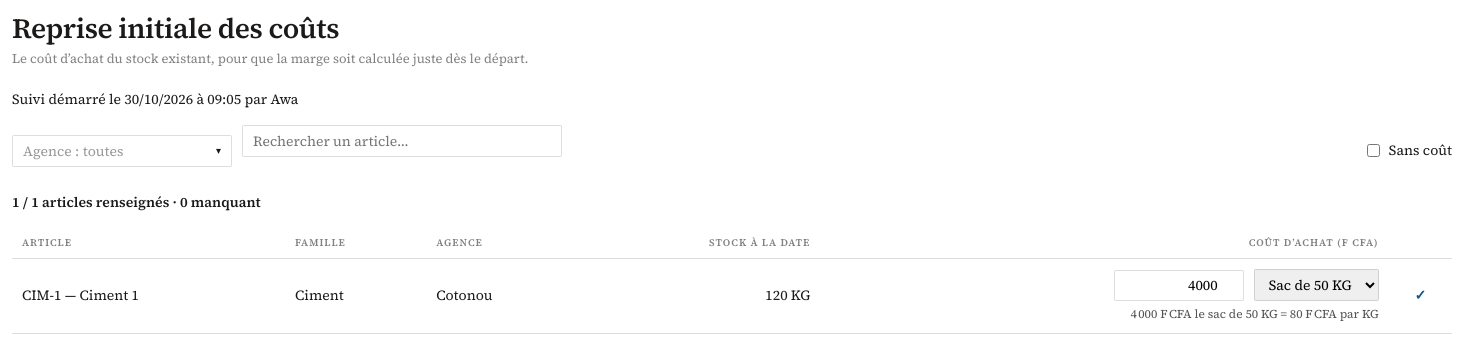
InitialCostsComponent › packaging of the cost › shows a stored cost per sack, or per KG when KG is selected, without saving
This screenshot has width=1464, height=351.
Expected: the number field with class "cost-input" holds "4000", [1114,270,1244,301]
Select "KG" in the dropdown with class "unit-select": {"x": 1316, "y": 285} [1254,269,1379,301]
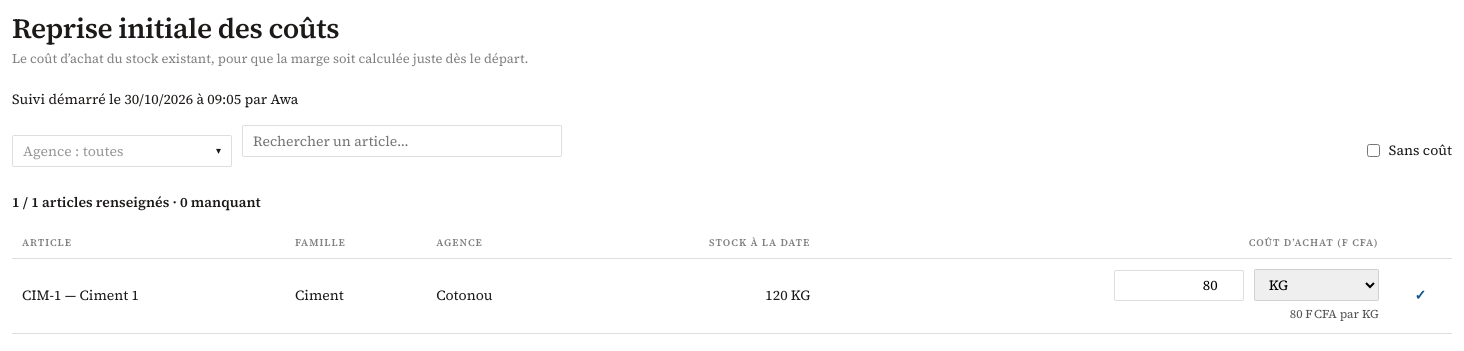
Expected: the number field with class "cost-input" holds "80", [1114,270,1244,301]
